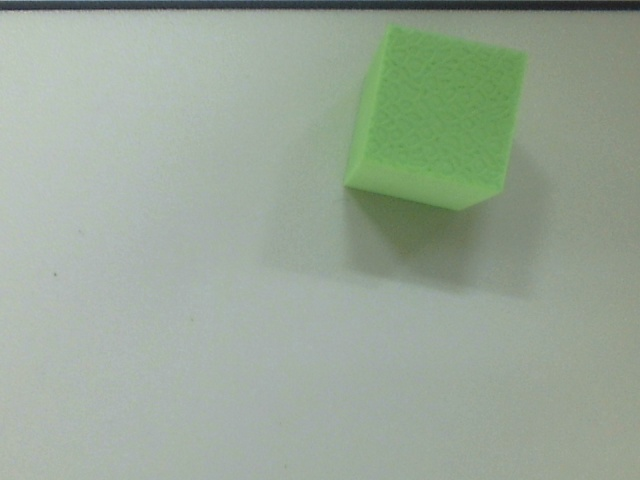greencube: (343, 20, 533, 219)
